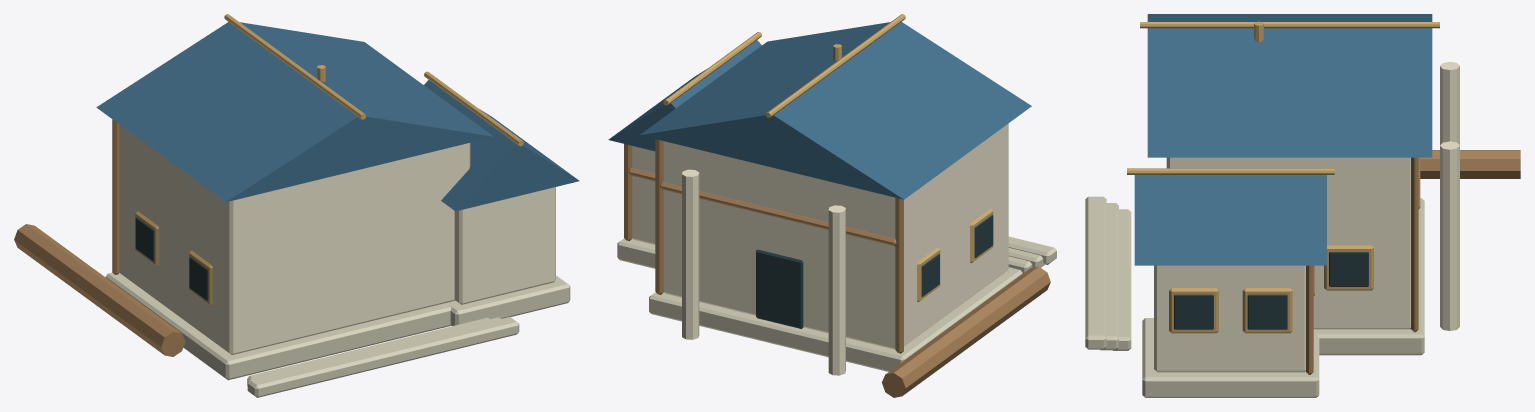
File: level_22.glb
3 views of the same model, side by side, from view 1: azimuth 30°, elevation 25°; view 2: azimuth 150°, elevation 25°; view 3: azimuth 270°, elevation 25° (orthographic). The views are drawn at different scales.
Parts seen in each view (by area): view 1: timber_yard — level 22; view 2: timber_yard — level 22; view 3: timber_yard — level 22.
Boxes of the visible parts, left/top/right/bottom form: timber_yard — level 22: left=14, top=14, right=579, bottom=397; timber_yard — level 22: left=608, top=14, right=1056, bottom=397; timber_yard — level 22: left=1085, top=14, right=1520, bottom=397.
Size of the model in its own units: 6.43 by 3.87 by 5.66.
